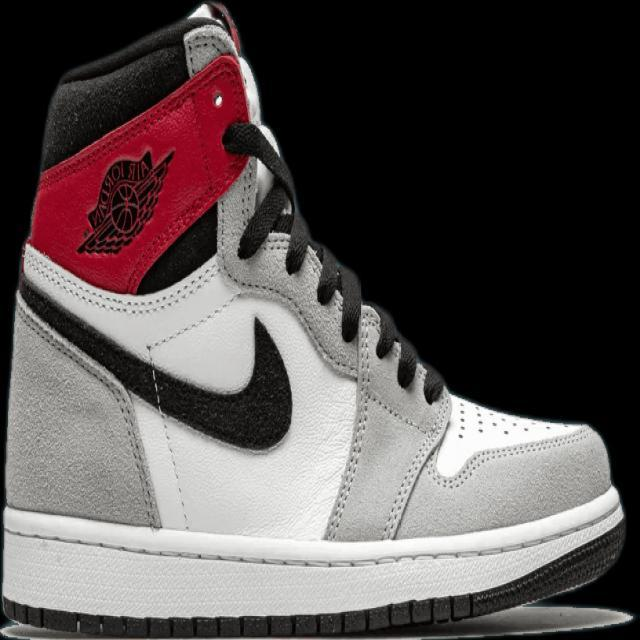J1_InsoleChar: (0, 0, 629, 638)
J1_ShoeLogo: (74, 146, 175, 256)
J1_StitchPattern: (180, 16, 447, 541), (218, 117, 590, 493), (0, 495, 628, 633), (220, 117, 444, 406), (180, 22, 365, 346), (15, 287, 163, 530), (320, 302, 448, 542), (179, 22, 304, 265), (427, 393, 586, 491), (20, 241, 220, 317), (321, 306, 379, 541), (220, 118, 299, 259), (139, 343, 194, 533), (379, 415, 449, 542), (450, 395, 568, 442), (236, 180, 294, 258), (179, 22, 235, 78)
